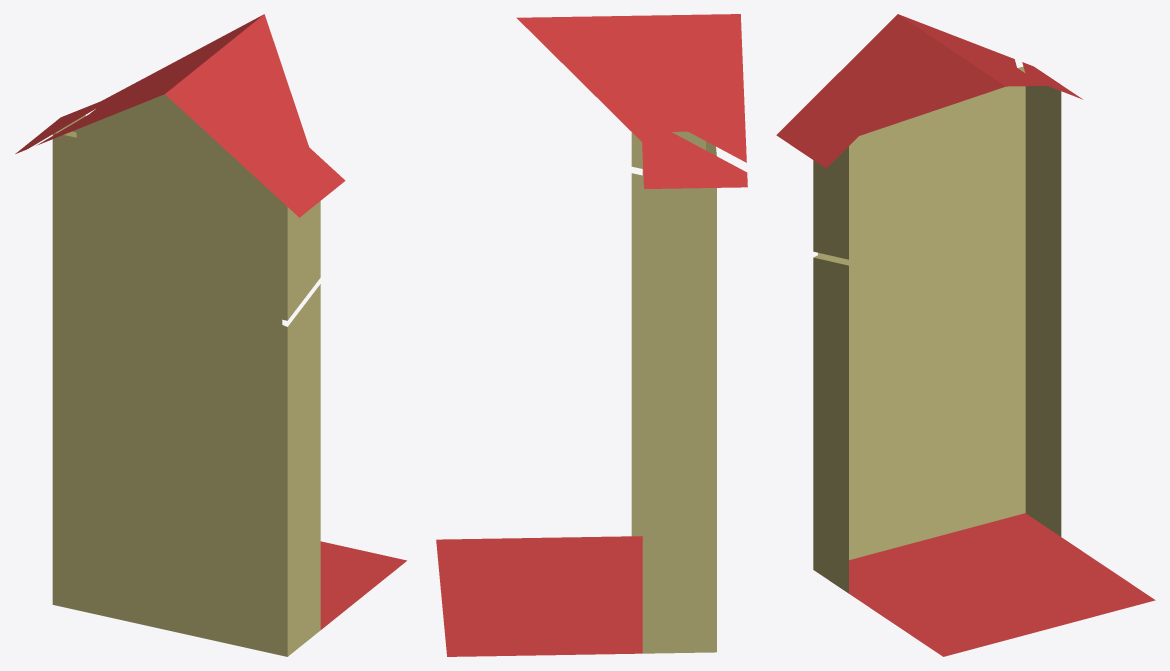
3 renders of one model, left to right at view 1: azimuth 30°, elevation 25°; view 2: azimuth 150°, elevation 25°; view 3: azimuth 270°, elevation 25°, orthographic. The views are drawn at different scales.
Size of the model in its own units: 7.03 by 7.07 by 10.68.
